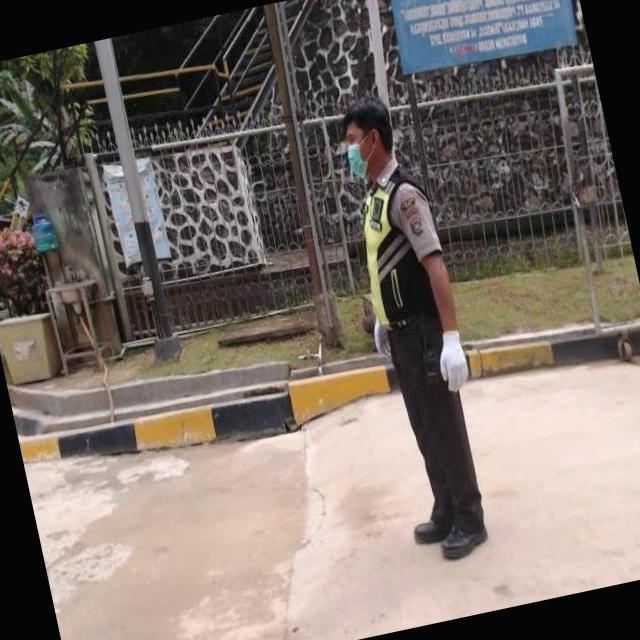vest: (346, 165, 456, 338)
